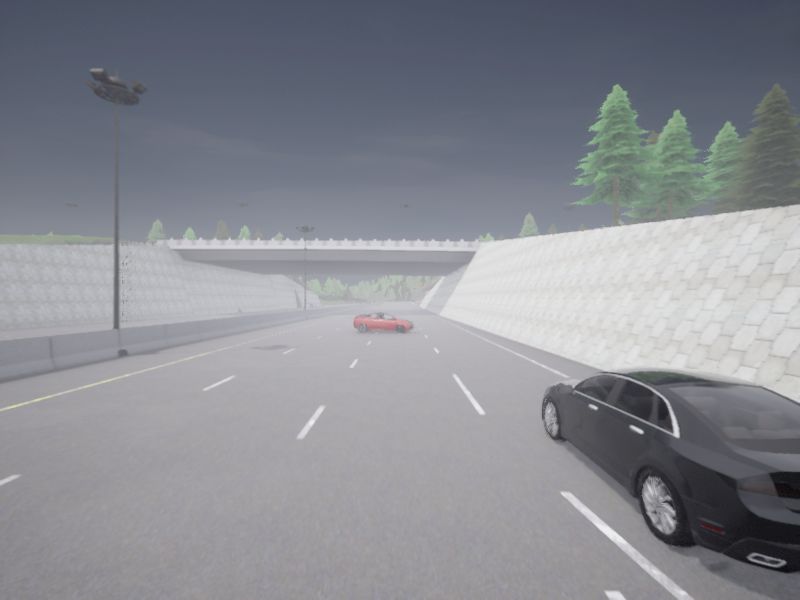vehicle: (542, 366, 799, 573), (354, 312, 414, 333)
